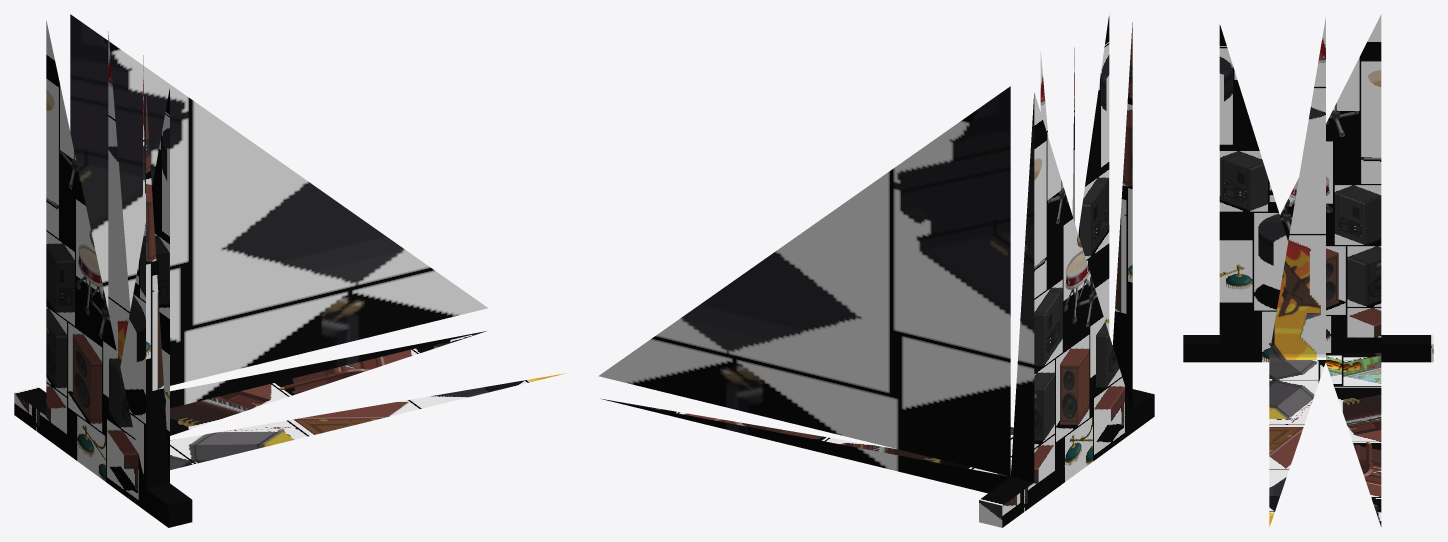
3 views of the same model, side by side, from view 1: azimuth 30°, elevation 25°; view 2: azimuth 150°, elevation 25°; view 3: azimuth 270°, elevation 25° (orthographic). The views are drawn at different scales.
Bounding box in the file's own units: 1.77 × 1.6 × 1.04.
